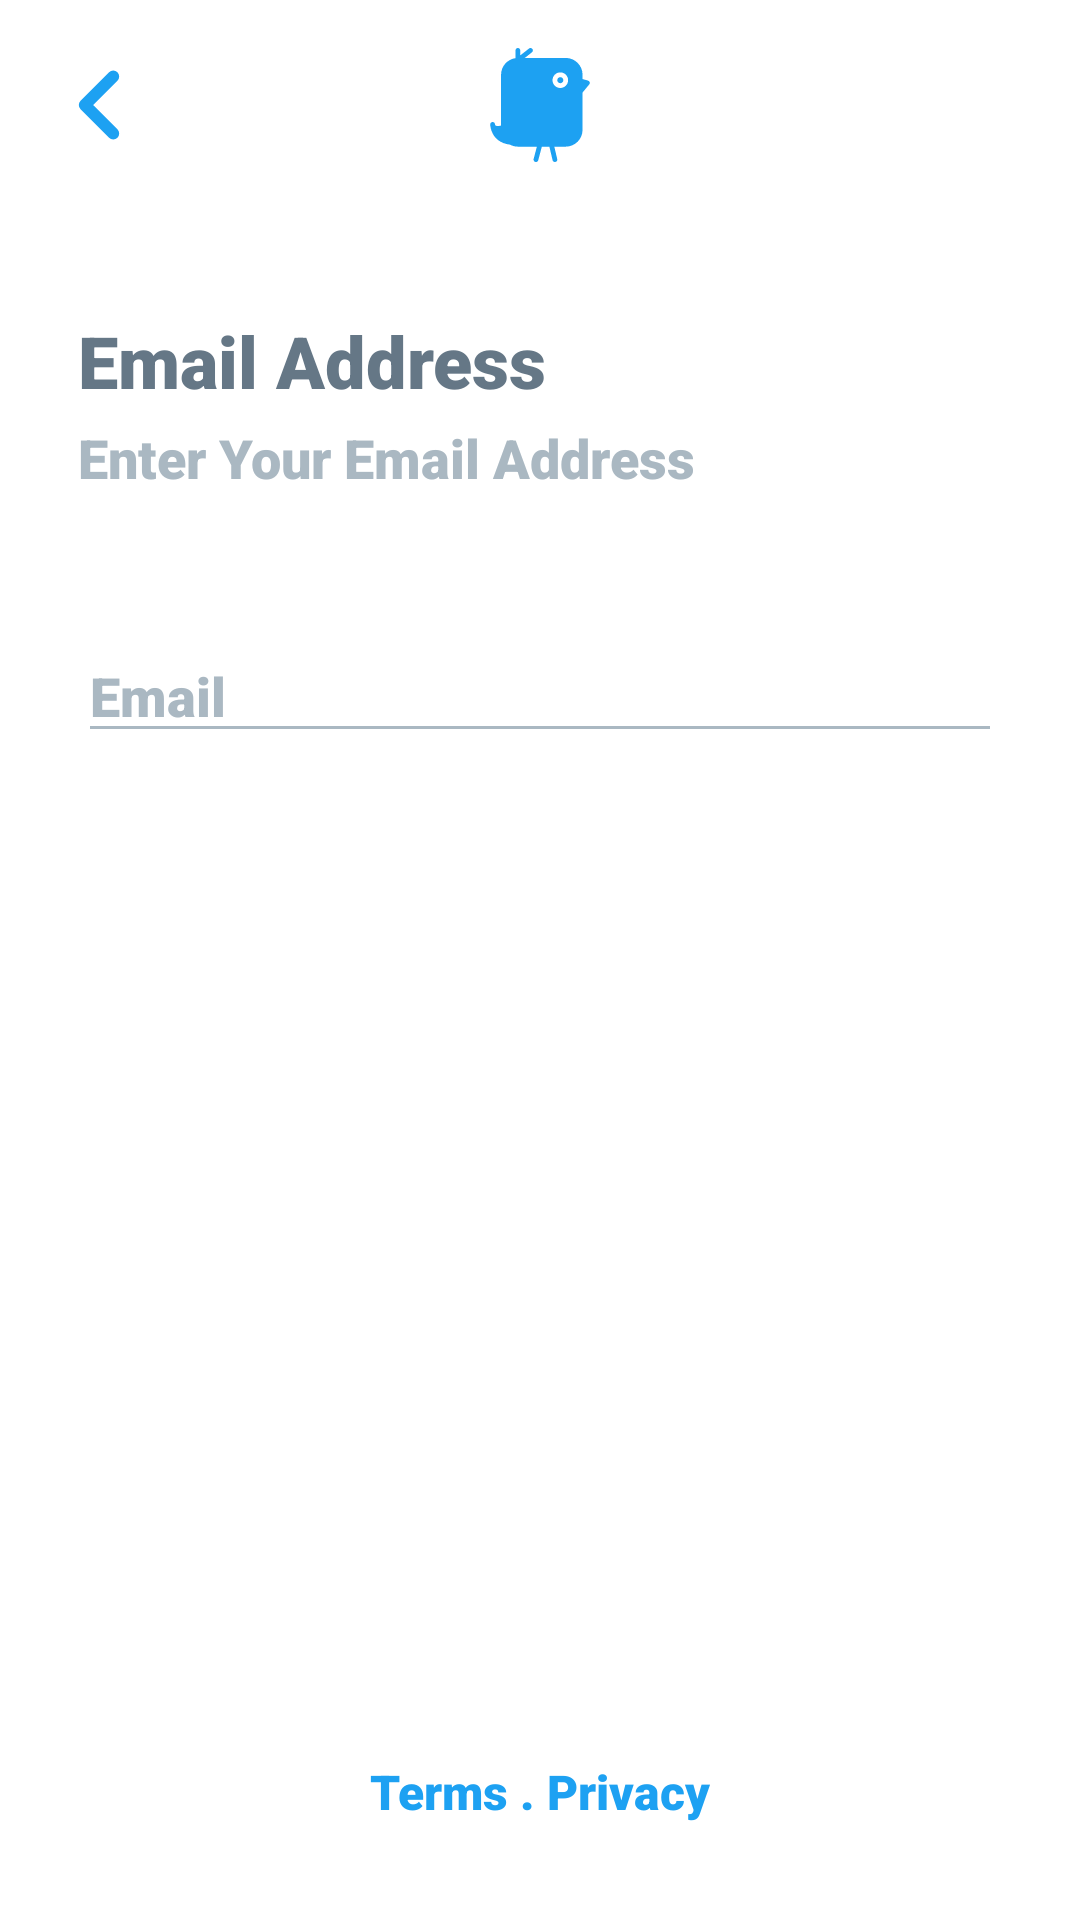

Screen size 1080w x 1920h. Icon name, then its center in pixels as point (x, y):
back: point (99, 105)
